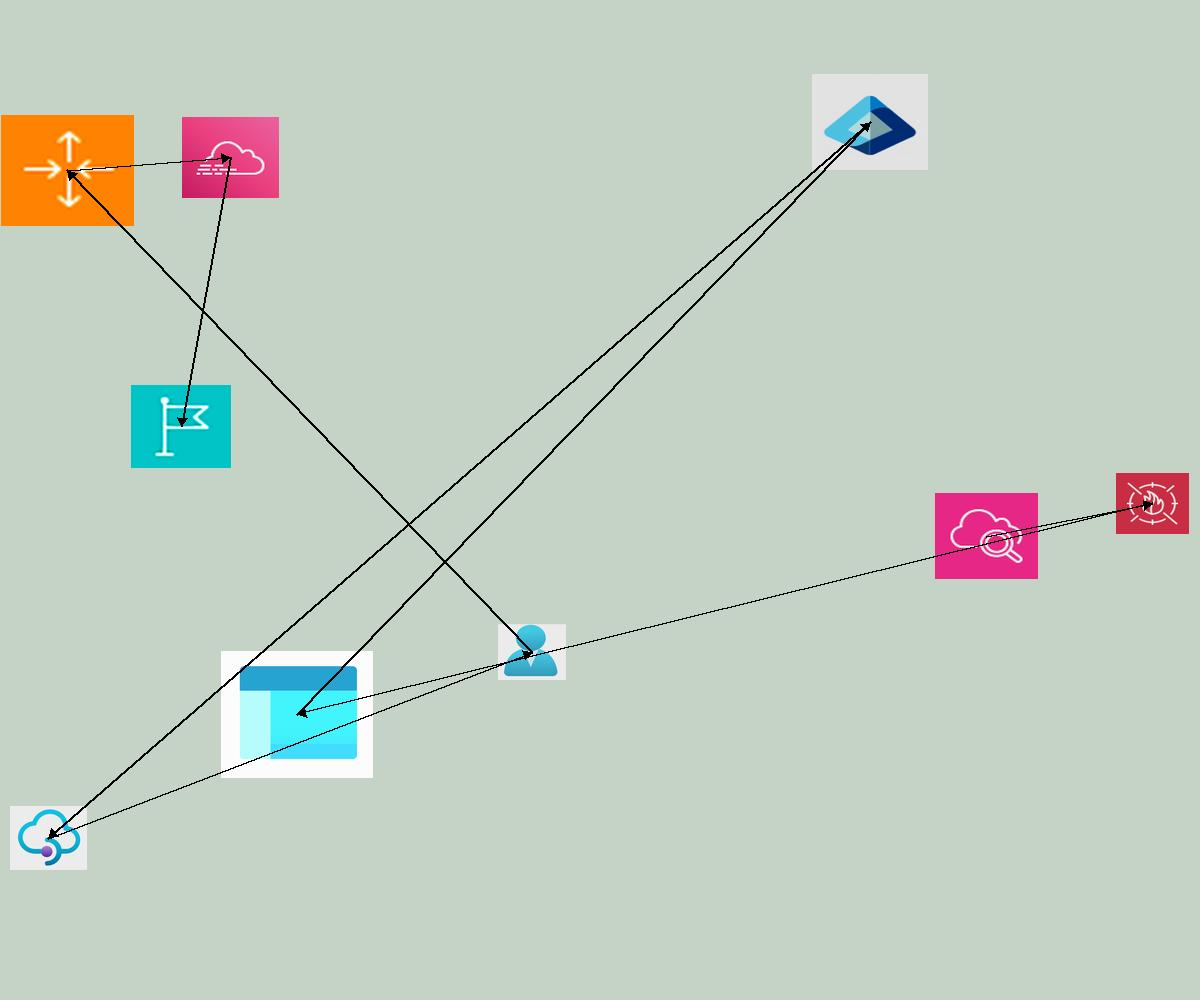AWS-CloudTrail: (182, 117, 279, 198)
AWS-CloudWatch: (935, 493, 1038, 579)
AWS-Region: (131, 385, 231, 468)
AWS-Scaling-group: (1, 115, 134, 226)
AWS-WAF: (1116, 473, 1189, 534)
Azure_api_gateway: (10, 806, 87, 870)
Azure_management-portal: (221, 651, 373, 778)
Azure_microsoft_entra: (812, 74, 928, 170)
Azure_users: (498, 624, 566, 680)
